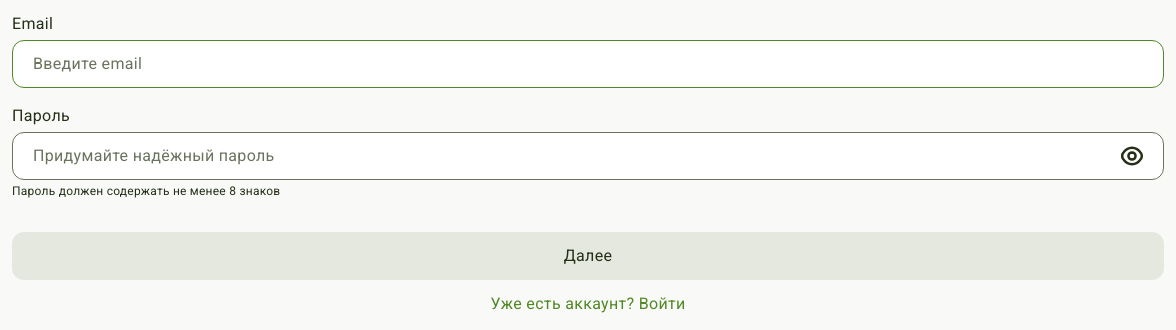
StepCredentials › переключение видимости пароля не переводит на следующий шаг
Type "password123" into the password field labelled "Пароль". click: (588, 156)
box: [12,132,1164,180]
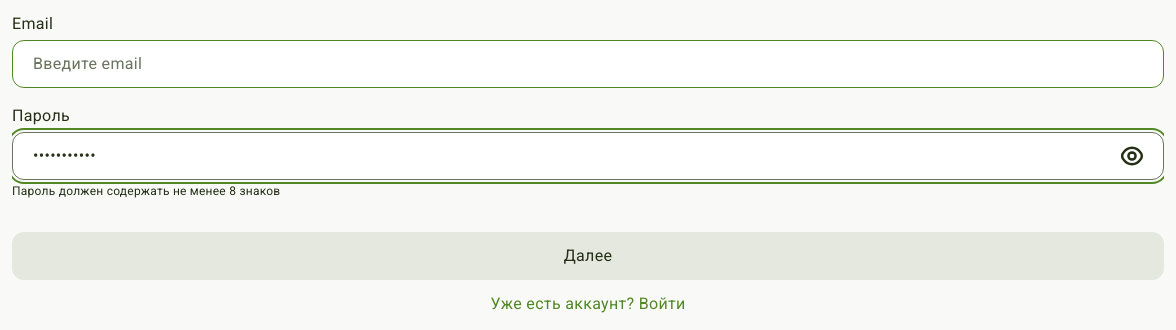
Click the button named "Показать пароль". click: (1132, 156)
box: [1120,144,1144,168]
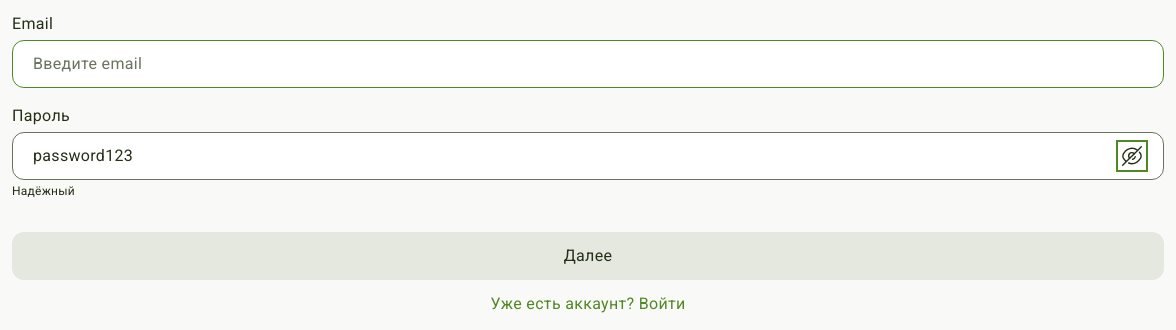
Result: the field labelled "Пароль" shows its text at [12,132,1164,180]
